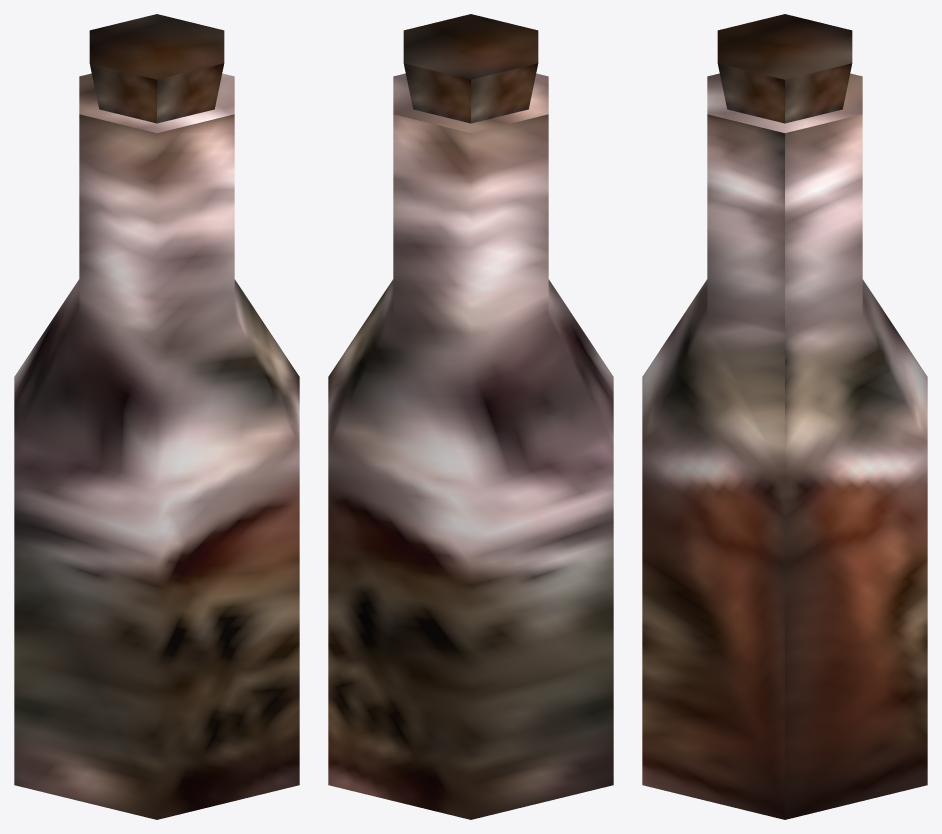
The model's file is rot gut.obj.
3 views of the same model, side by side, from view 1: azimuth 30°, elevation 25°; view 2: azimuth 150°, elevation 25°; view 3: azimuth 270°, elevation 25° (orthographic).
Parts seen in each view (by area): view 1: cylinder1; view 2: cylinder1; view 3: cylinder1.
Part boxes in pixels (box(x1,y1,x2,y2)): cylinder1: box(14, 14, 299, 819); cylinder1: box(328, 14, 613, 819); cylinder1: box(642, 14, 927, 819).
Size of the model in its own units: 2.49 by 5.86 by 2.15.
Materials: 1 (1 with a texture image).
